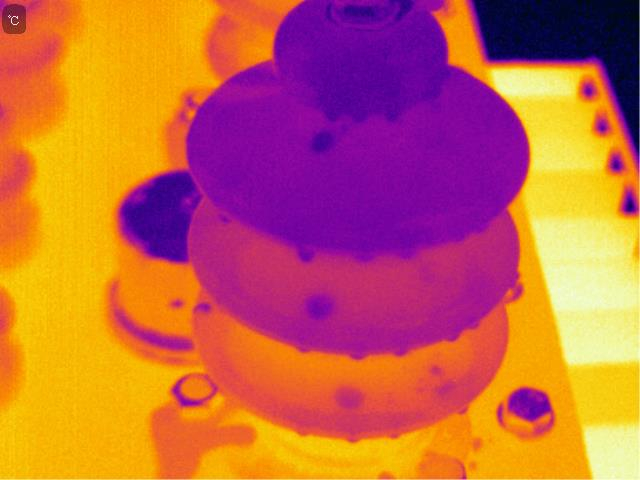Water: (422, 70, 454, 104), (348, 242, 376, 268), (306, 295, 331, 320), (395, 242, 419, 265), (338, 389, 363, 409), (312, 133, 337, 151), (322, 104, 342, 126), (296, 243, 315, 262), (450, 225, 467, 246), (433, 383, 457, 397), (470, 217, 489, 234), (216, 211, 234, 227), (381, 108, 400, 123), (463, 318, 482, 333), (196, 300, 213, 316), (292, 426, 311, 439), (345, 434, 362, 448), (385, 429, 401, 443), (452, 404, 469, 417), (389, 349, 409, 360), (292, 345, 313, 355), (429, 364, 444, 378), (350, 112, 370, 122), (445, 331, 461, 343), (346, 352, 366, 360)
